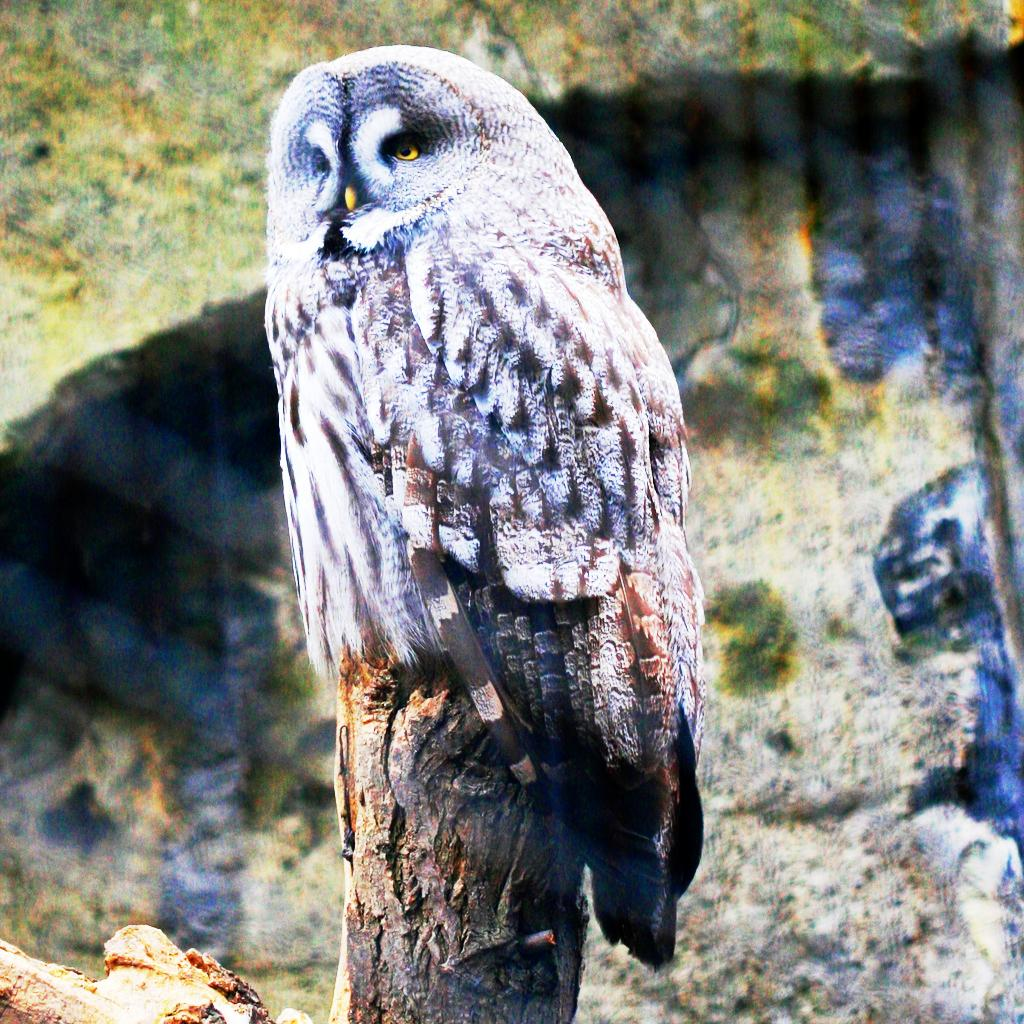Owl: (242, 32, 735, 980)
